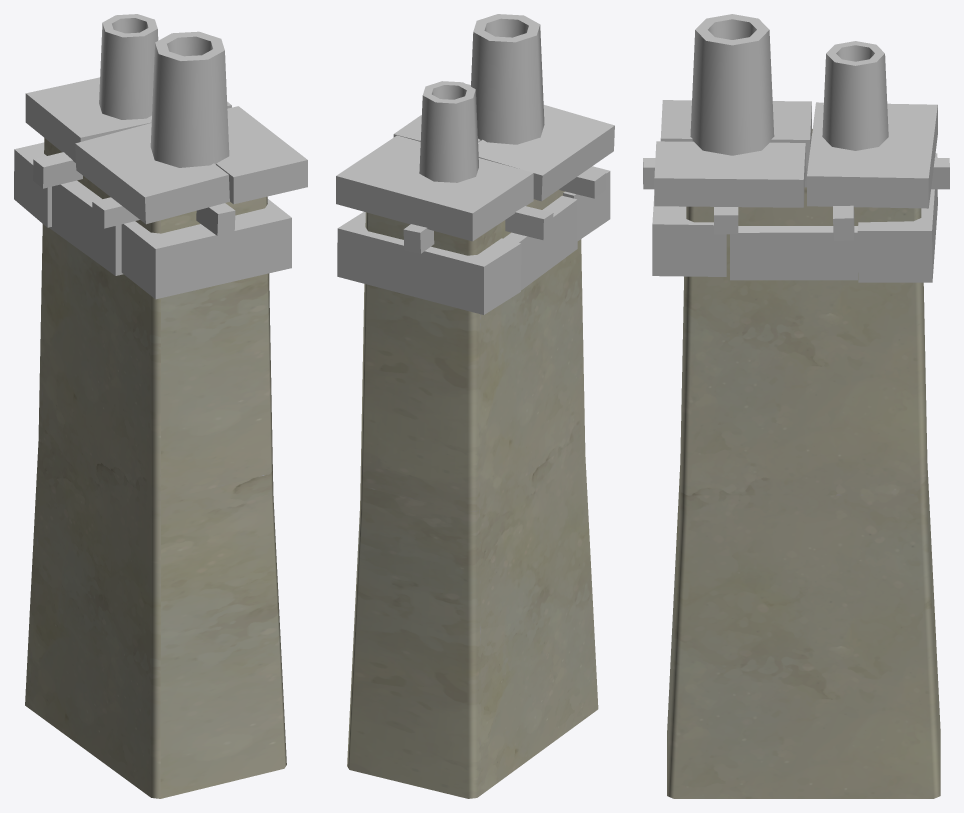
The model's file is A_Addon_Chimney_B.fbx.
3 views of the same model, side by side, from view 1: azimuth 30°, elevation 25°; view 2: azimuth 150°, elevation 25°; view 3: azimuth 270°, elevation 25° (orthographic). The views are drawn at different scales.
Parts seen in each view (by area): view 1: A_Addon_Chimney_B, A_Addon_Chimney_B_KitParts; view 2: A_Addon_Chimney_B, A_Addon_Chimney_B_KitParts; view 3: A_Addon_Chimney_B, A_Addon_Chimney_B_KitParts.
Part boxes in pixels (left/top/right/bottom): A_Addon_Chimney_B: left=25, top=138, right=286, bottom=798; A_Addon_Chimney_B_KitParts: left=14, top=14, right=307, bottom=299; A_Addon_Chimney_B: left=347, top=189, right=598, bottom=798; A_Addon_Chimney_B_KitParts: left=336, top=14, right=614, bottom=314; A_Addon_Chimney_B: left=667, top=129, right=940, bottom=798; A_Addon_Chimney_B_KitParts: left=643, top=14, right=949, bottom=282.
Size of the model in its own units: 84.7 by 286 by 108.
